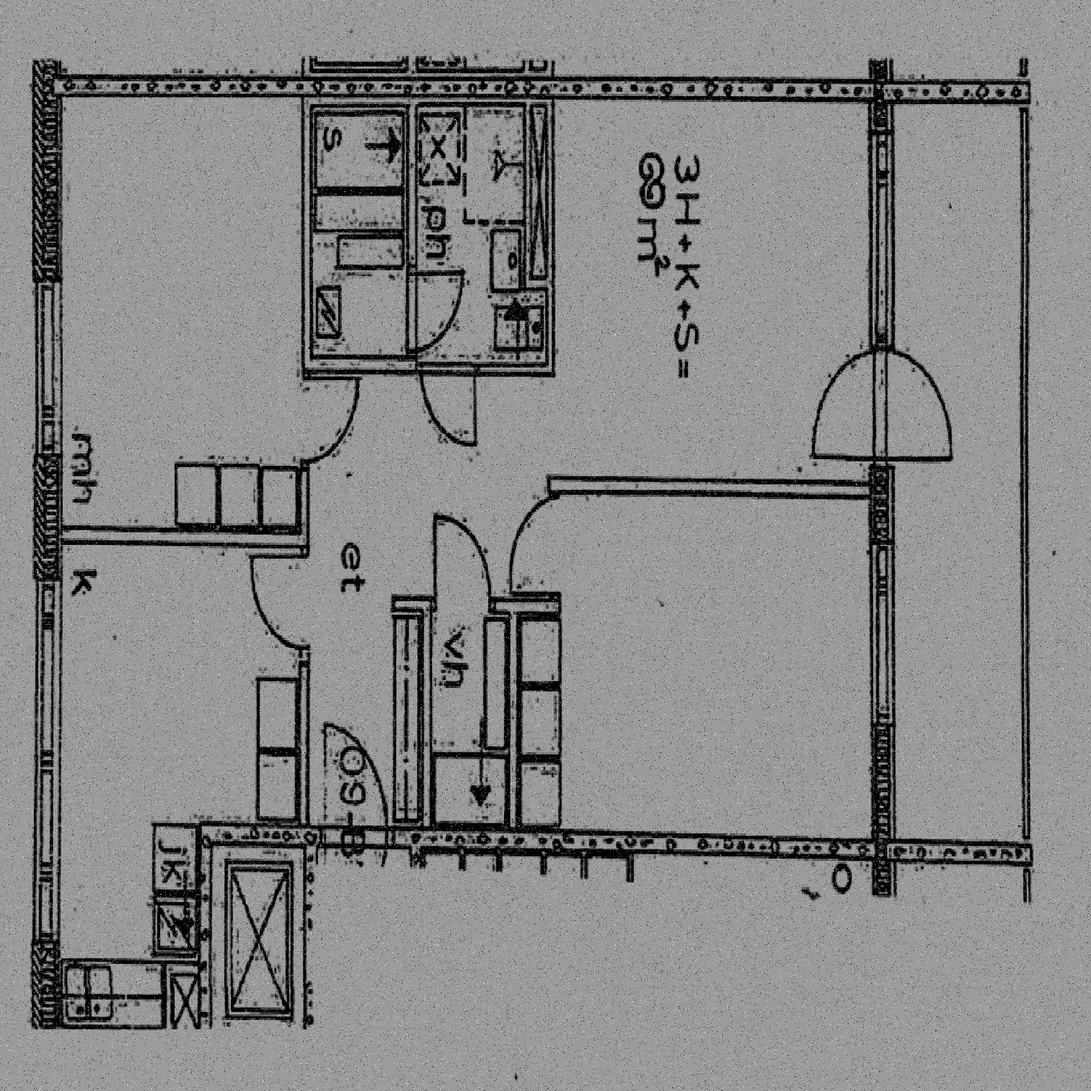wall: (33, 76, 61, 1050), (870, 76, 892, 857), (33, 76, 892, 96), (200, 837, 892, 857), (526, 95, 553, 290), (549, 479, 870, 495), (298, 96, 308, 543), (308, 358, 558, 374), (61, 527, 308, 543), (33, 1031, 212, 1050), (298, 526, 308, 857), (548, 95, 558, 374), (408, 95, 418, 374), (892, 76, 1030, 96), (892, 837, 1030, 857), (393, 595, 558, 611), (421, 595, 431, 857), (508, 595, 518, 857), (200, 837, 212, 1050), (165, 962, 200, 1034), (548, 479, 558, 611), (165, 962, 174, 1034), (526, 276, 558, 290)
